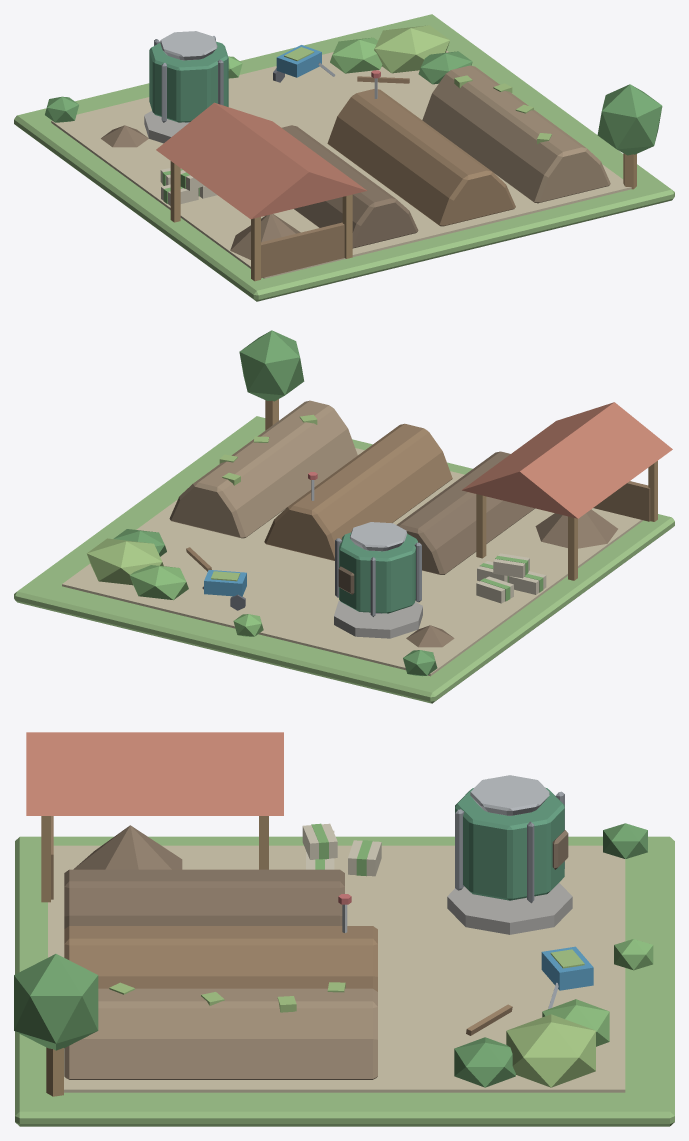
The model's file is residuos__patio_compostagem.glb.
3 views of the same model, one above another, from view 1: azimuth 30°, elevation 25°; view 2: azimuth 150°, elevation 25°; view 3: azimuth 270°, elevation 25° (orthographic). The views are drawn at different scales.
Visible parts, largest first — view 1: residuos__patio_compostagem; view 2: residuos__patio_compostagem; view 3: residuos__patio_compostagem.
Part boxes in pixels (<box>): residuos__patio_compostagem: <box>14,14,674,301</box>; residuos__patio_compostagem: <box>14,330,674,703</box>; residuos__patio_compostagem: <box>14,732,674,1126</box>.
Bounding box in the file's own units: 4.01 × 1.04 × 4.01.
